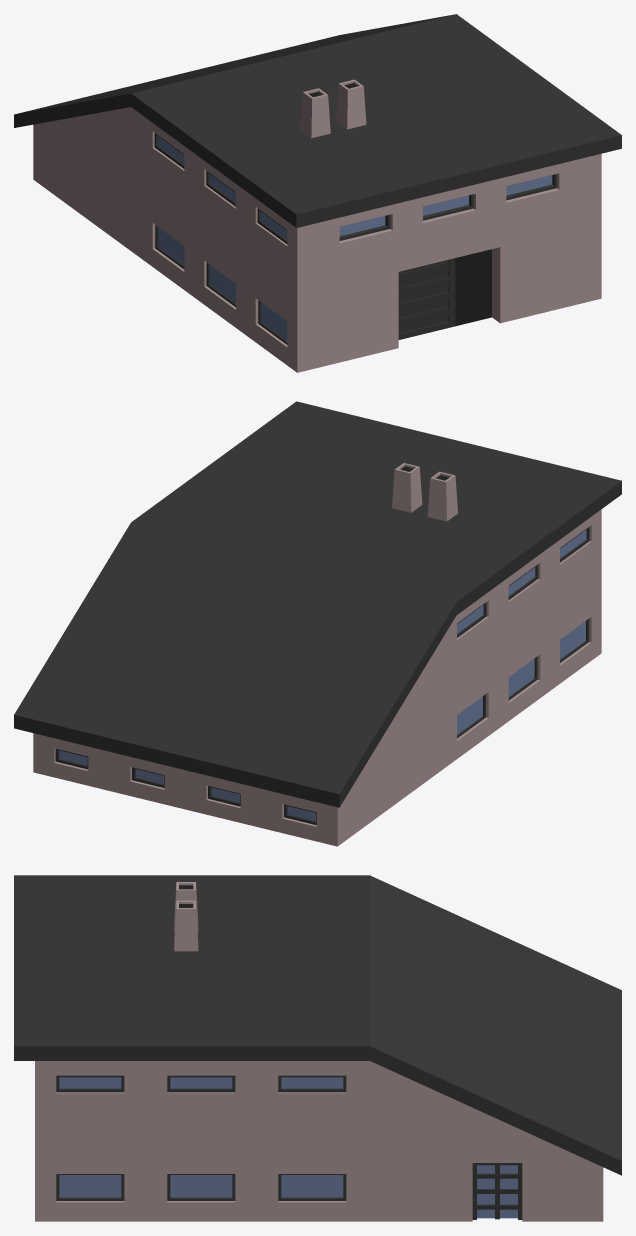
Rendered from FactoryBuilding_04.fbx.
3 views of the same model, one above another, from view 1: azimuth 30°, elevation 25°; view 2: azimuth 150°, elevation 25°; view 3: azimuth 270°, elevation 25° (orthographic). The views are drawn at different scales.
Visible parts, largest first — view 1: FactoryBuilding_04; view 2: FactoryBuilding_04; view 3: FactoryBuilding_04.
Part boxes in pixels (x1,y1,x2,y2): FactoryBuilding_04: [14, 14, 621, 372]; FactoryBuilding_04: [14, 401, 621, 846]; FactoryBuilding_04: [14, 875, 621, 1221].
Bounding box in the file's own units: 18.04 × 10.94 × 27.12.
